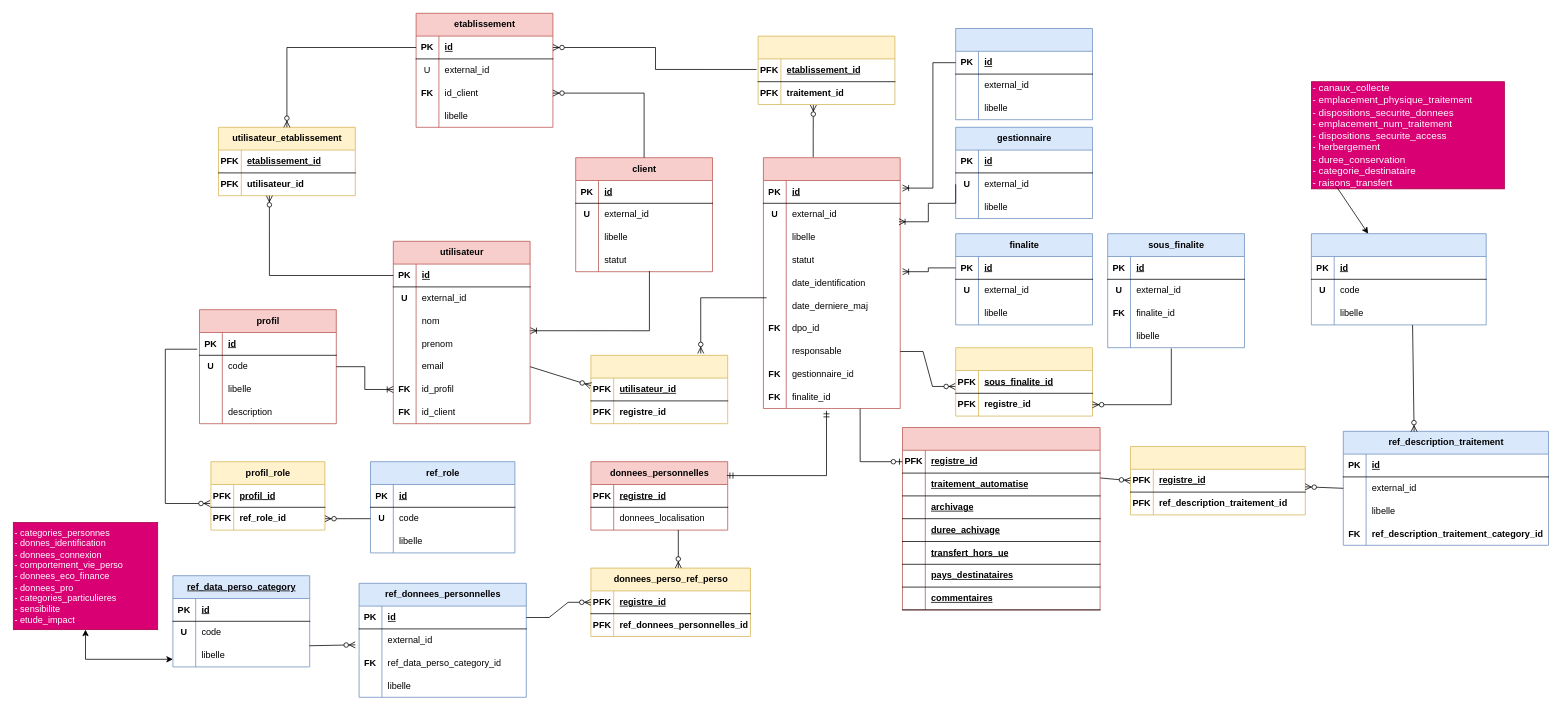
Some shapes in this 1562 by 711 pixel diagram are drawn without their labels. Each missing label, with the box of its shape:
desc_trait_ref_desc_traitement: (1130, 446, 1305, 515)
description_traitement: (902, 427, 1100, 610)
dpo: (955, 28, 1092, 120)
ref_description_traitement_category: (1311, 233, 1486, 325)
registre: (763, 157, 900, 408)
registre_etablissement: (757, 35, 895, 104)
registre_sous_finalites: (955, 347, 1092, 416)
utilisateur_registre: (590, 355, 728, 424)
